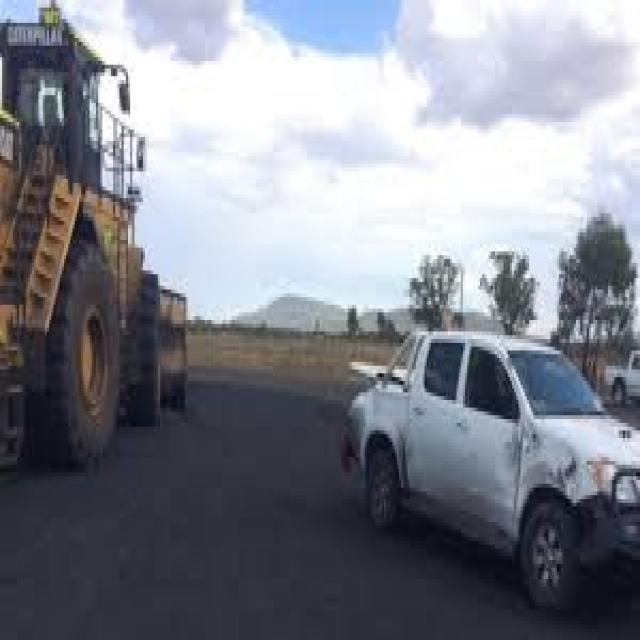light_vehicle: (324, 293, 638, 621)
